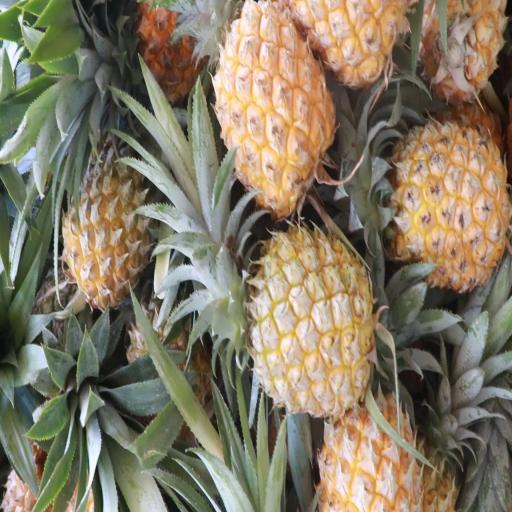Pineapple - v8 v1: (236, 215, 374, 417), (210, 9, 338, 215), (367, 121, 512, 294), (60, 120, 150, 310)
